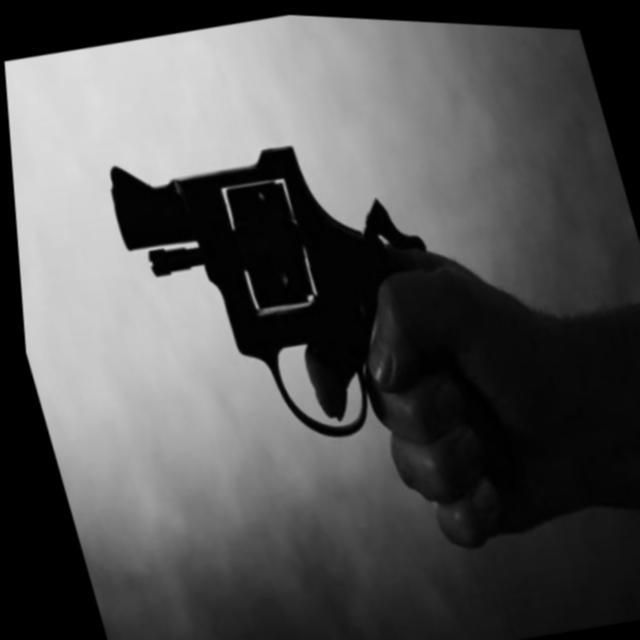weapon: (90, 98, 476, 480)
